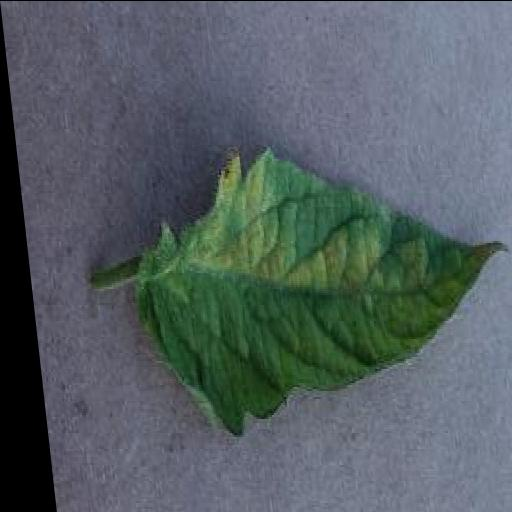Leaf Mold: (116, 150, 512, 440)
